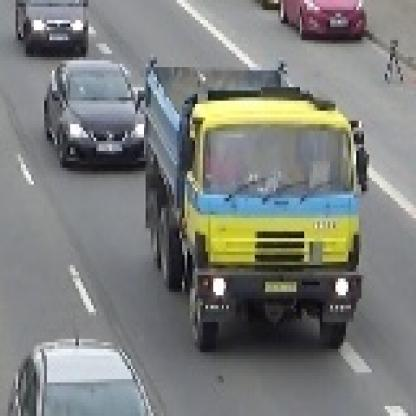truck: (142, 58, 368, 347)
